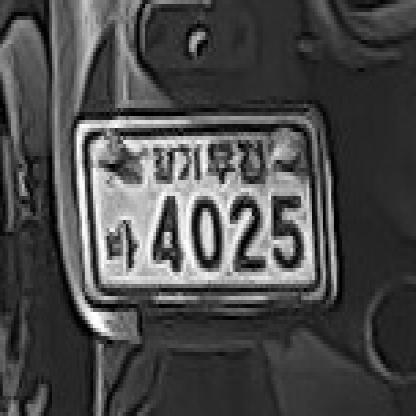bnum: (61, 108, 348, 312)
